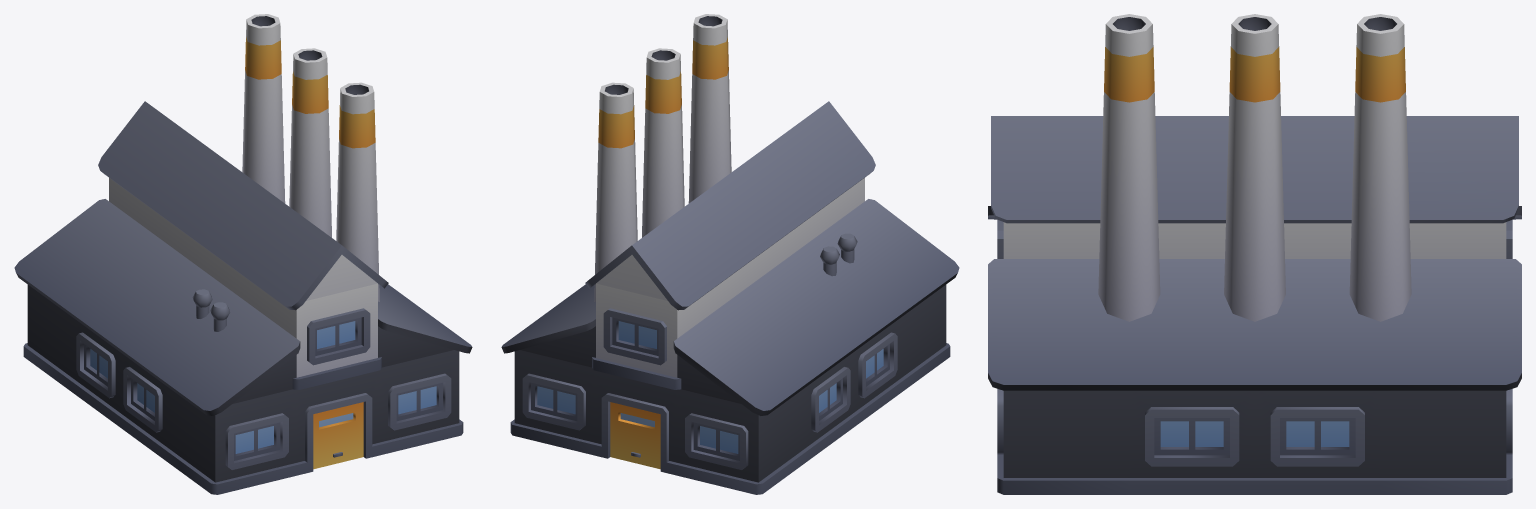
The model's file is building-m.glb.
The picture shows the model from 3 angles, left to right: view 1: azimuth 30°, elevation 25°; view 2: azimuth 150°, elevation 25°; view 3: azimuth 270°, elevation 25°; orthographic projection. The views are drawn at different scales.
Parts seen in each view (by area): view 1: building-m; view 2: building-m; view 3: building-m.
Part boxes in pixels (x1,y1,x2,y2): building-m: [14, 14, 472, 494]; building-m: [501, 14, 959, 494]; building-m: [988, 14, 1521, 494].
Size of the model in its own units: 1.32 by 1.52 by 1.7.
